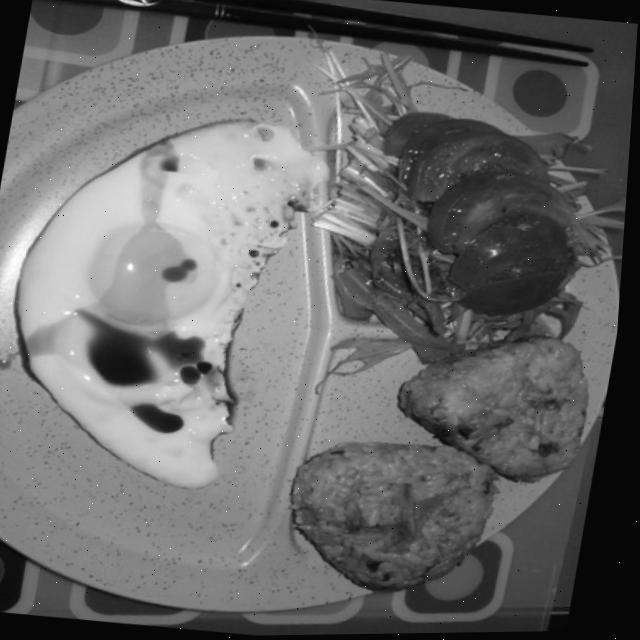米饭主食: (334, 333, 590, 594)
鸡蛋料理: (24, 94, 329, 505)
